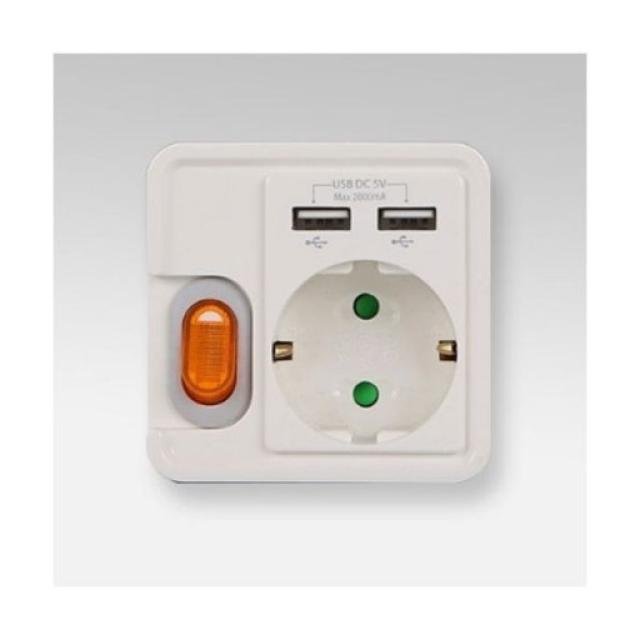typeb: (123, 127, 534, 543)
